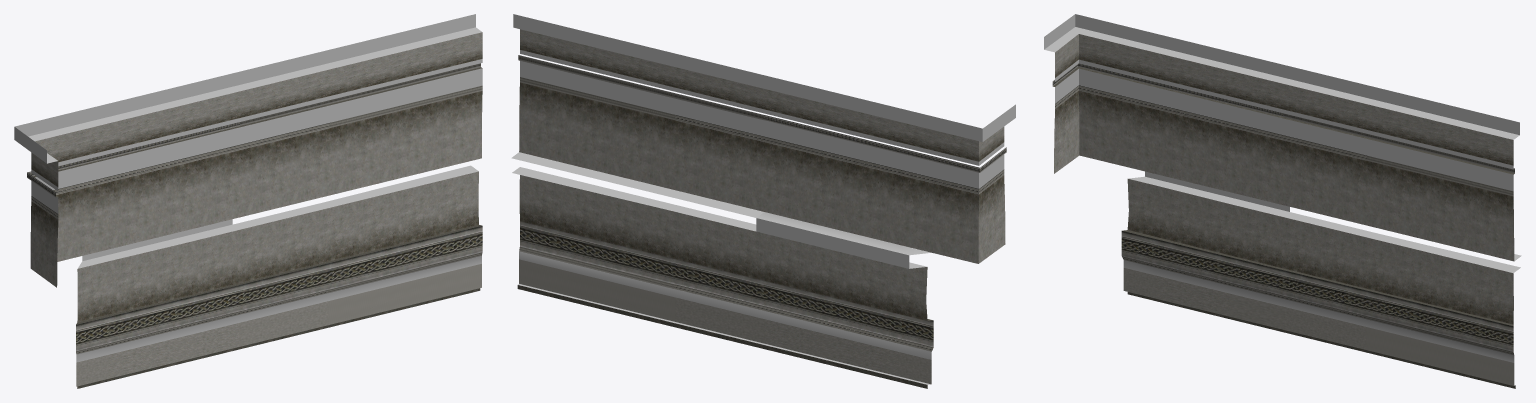
The model's file is DWARF_PALACE_FORGE_BACKWALL.obj.
3 renders of one model, left to right at view 1: azimuth 30°, elevation 25°; view 2: azimuth 150°, elevation 25°; view 3: azimuth 330°, elevation 25°, orthographic. The views are drawn at different scales.
Visible parts, largest first — view 1: forge_backwall; view 2: forge_backwall; view 3: forge_backwall.
Boxes of the visible parts, x1,y1,x2,y2 form: forge_backwall: (14,14,482,388); forge_backwall: (511,14,1015,388); forge_backwall: (1044,14,1521,388).
Bounding box in the file's own units: 3621 × 2050 × 485.
